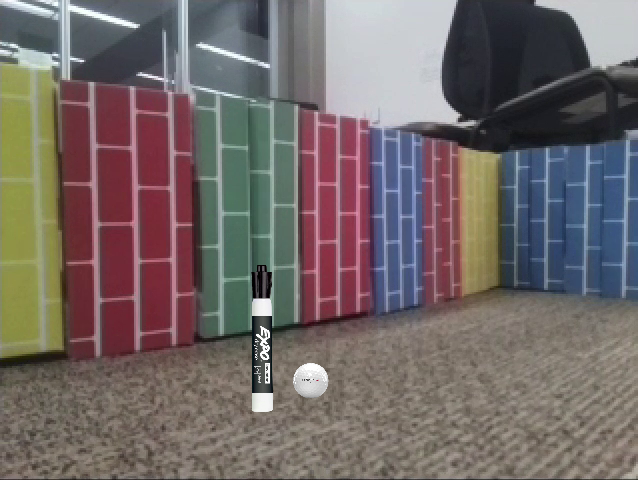ball: (293, 363, 329, 399)
